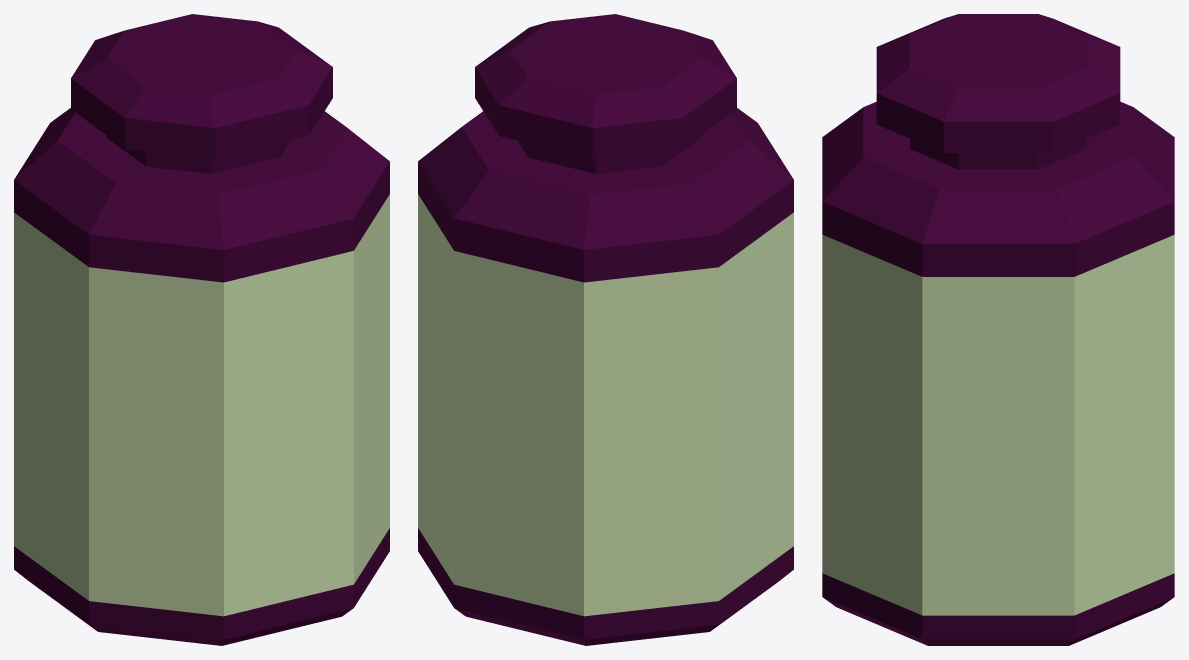
File: FNG_Medicine.fbx
3 views of the same model, side by side, from view 1: azimuth 30°, elevation 25°; view 2: azimuth 150°, elevation 25°; view 3: azimuth 270°, elevation 25° (orthographic).
Visible parts, largest first — view 1: Cube; view 2: Cube; view 3: Cube.
Boxes of the visible parts, box(x1,y1,x2,y2) form: Cube: box(14, 14, 389, 645); Cube: box(418, 14, 793, 645); Cube: box(822, 14, 1174, 645).
Bounding box in the file's own units: 200 × 329 × 200.
